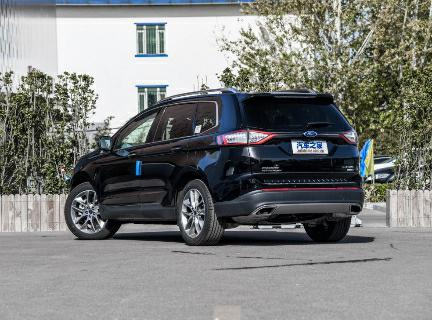福特-锐界: (62, 87, 371, 250)
